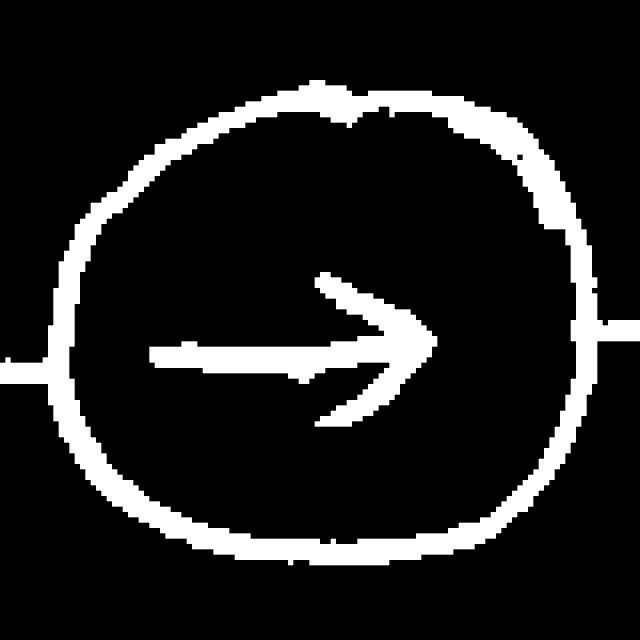current_source: (52, 67, 616, 575)
